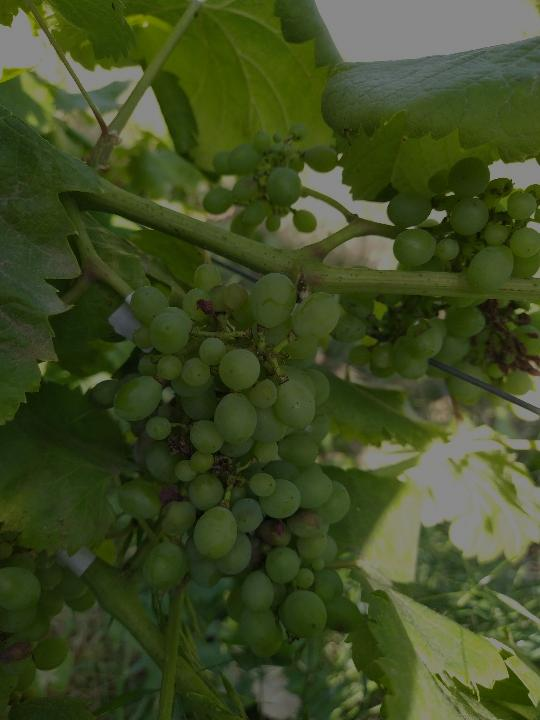grape: (88, 262, 367, 665), (336, 156, 537, 406), (200, 124, 343, 240)
